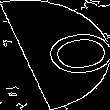O_W: (8, 27, 102, 83)
